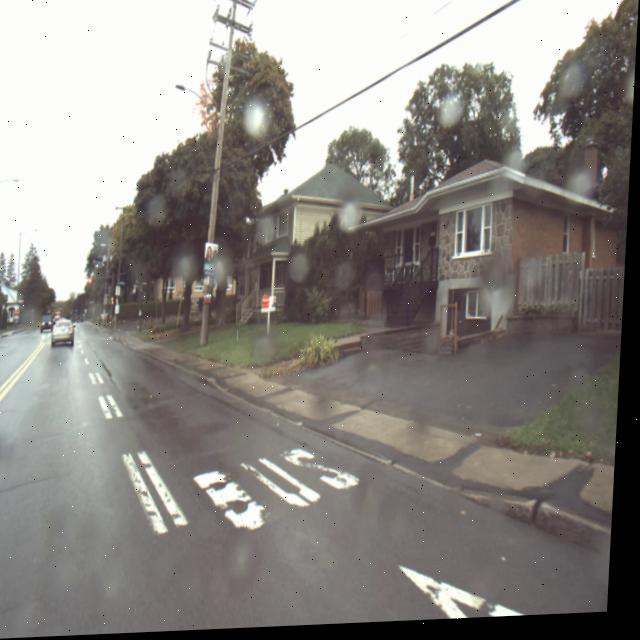car: (53, 318, 81, 346)
